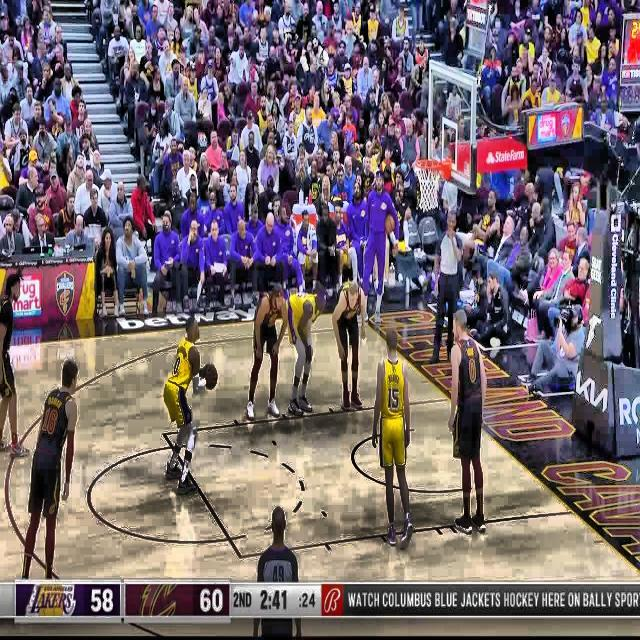rim: (414, 158, 444, 212)
